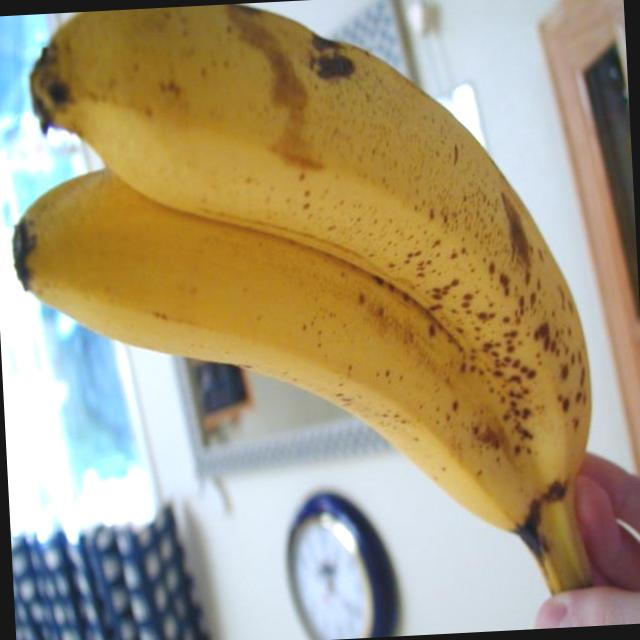Banana: (0, 0, 604, 625)
